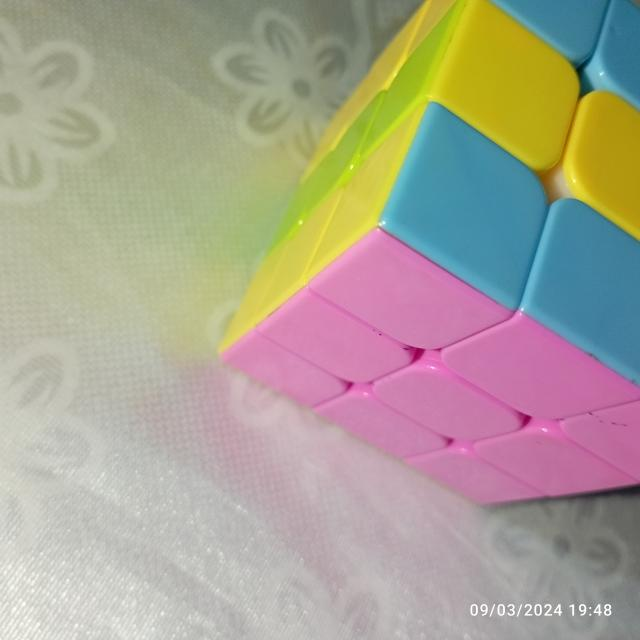Rub: (211, 0, 640, 512)
